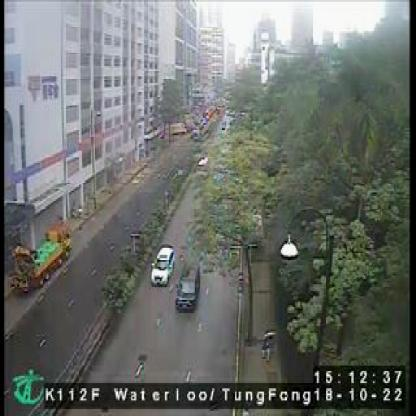Car: (175, 260, 201, 313), (151, 246, 177, 287)
Truck: (8, 218, 74, 300)
